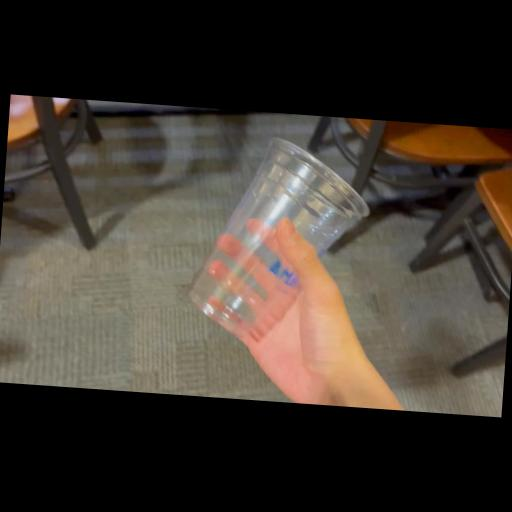lp_plastic_cup: (186, 135, 370, 344)
